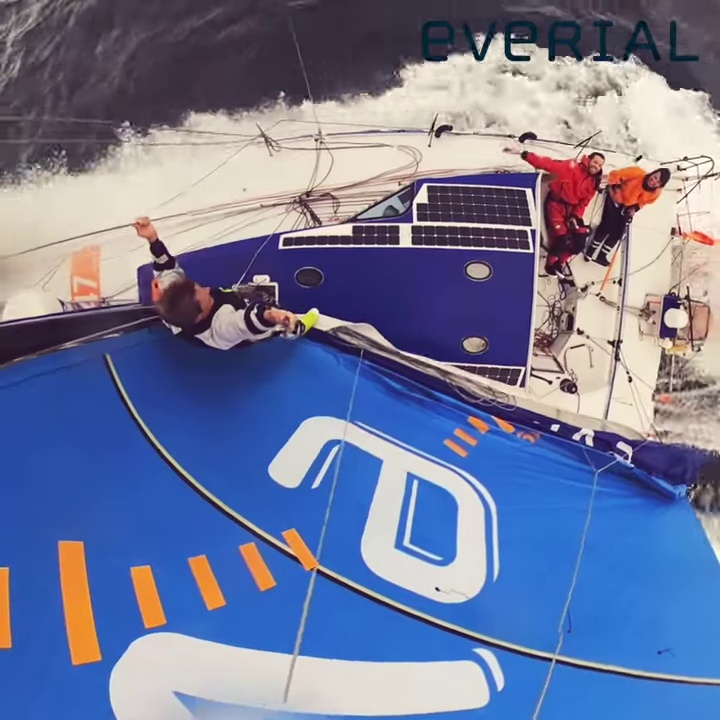pennon_attached: (428, 583, 470, 605)
pennon_detached: (562, 604, 577, 644), (654, 642, 679, 661)
